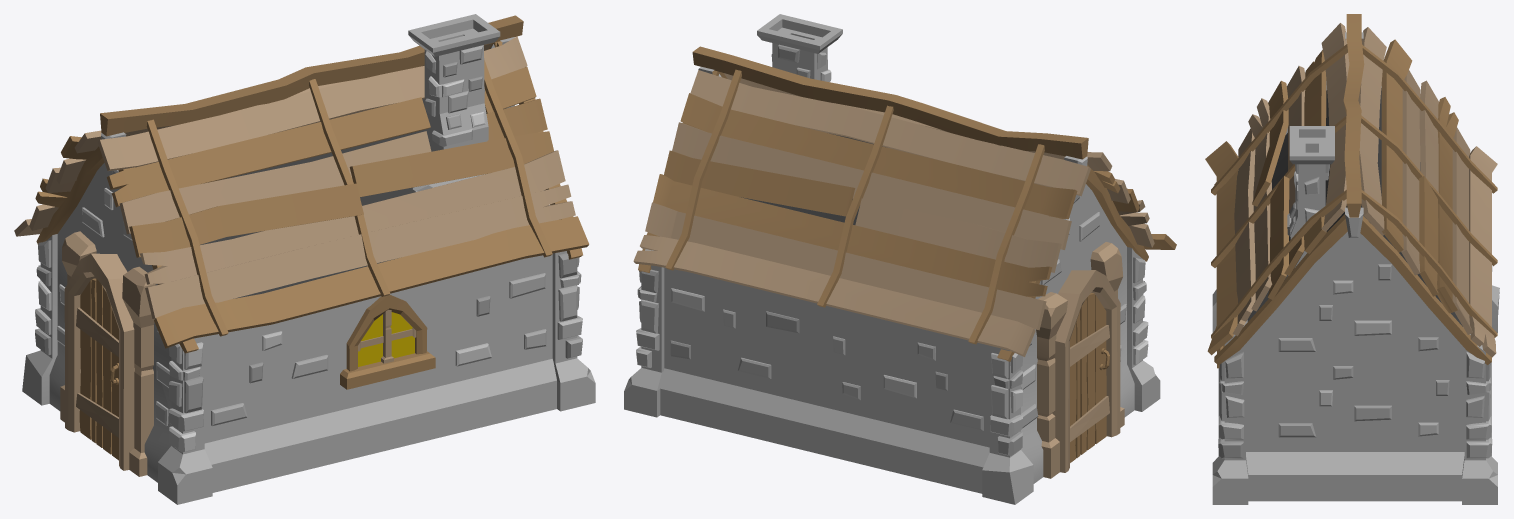
The model's file is hut.fbx.
3 views of the same model, side by side, from view 1: azimuth 30°, elevation 25°; view 2: azimuth 150°, elevation 25°; view 3: azimuth 270°, elevation 25° (orthographic). The views are drawn at different scales.
Parts seen in each view (by area): view 1: Hut; view 2: Hut; view 3: Hut.
Boxes of the visible parts, box(x1,y1,x2,y2) form: Hut: box(14, 14, 595, 504); Hut: box(624, 14, 1176, 504); Hut: box(1205, 14, 1499, 504).
Size of the model in its own units: 339 by 265 by 218.
